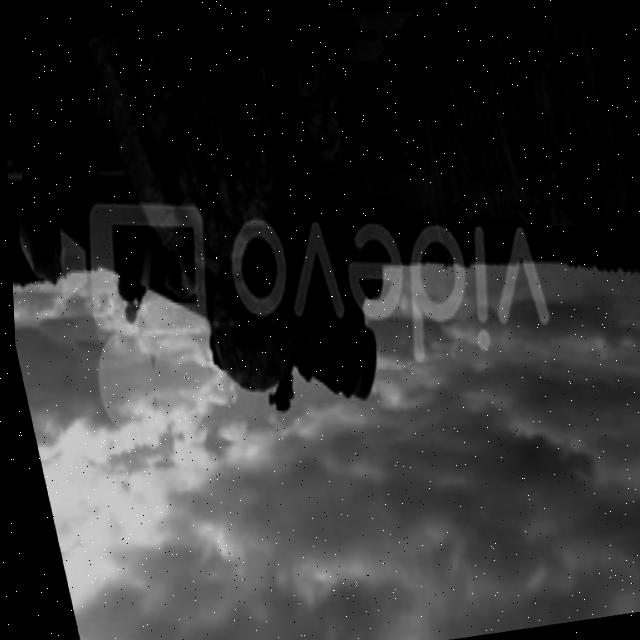rocket: (2, 58, 417, 453)
